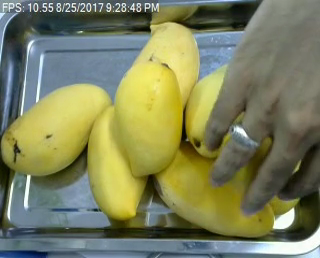Mango: (148, 141, 274, 237), (0, 83, 112, 175), (115, 62, 182, 176), (87, 103, 148, 221), (123, 21, 201, 108), (186, 64, 248, 156)
